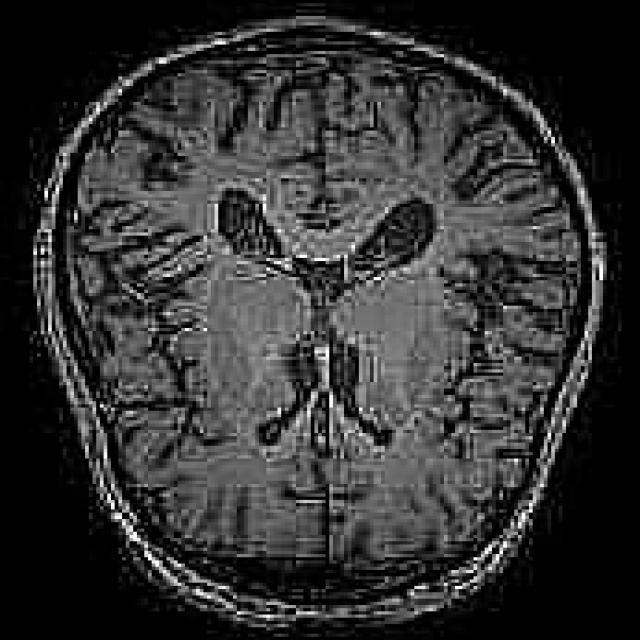notumor: (37, 19, 610, 630)
